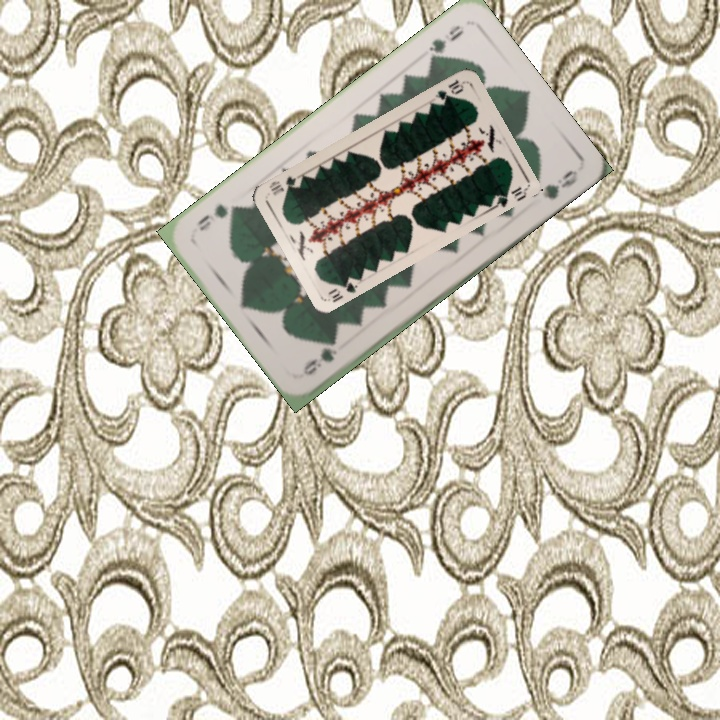G10: (324, 273, 360, 305), (431, 75, 467, 103)
G9: (424, 21, 467, 66), (299, 338, 340, 378)
